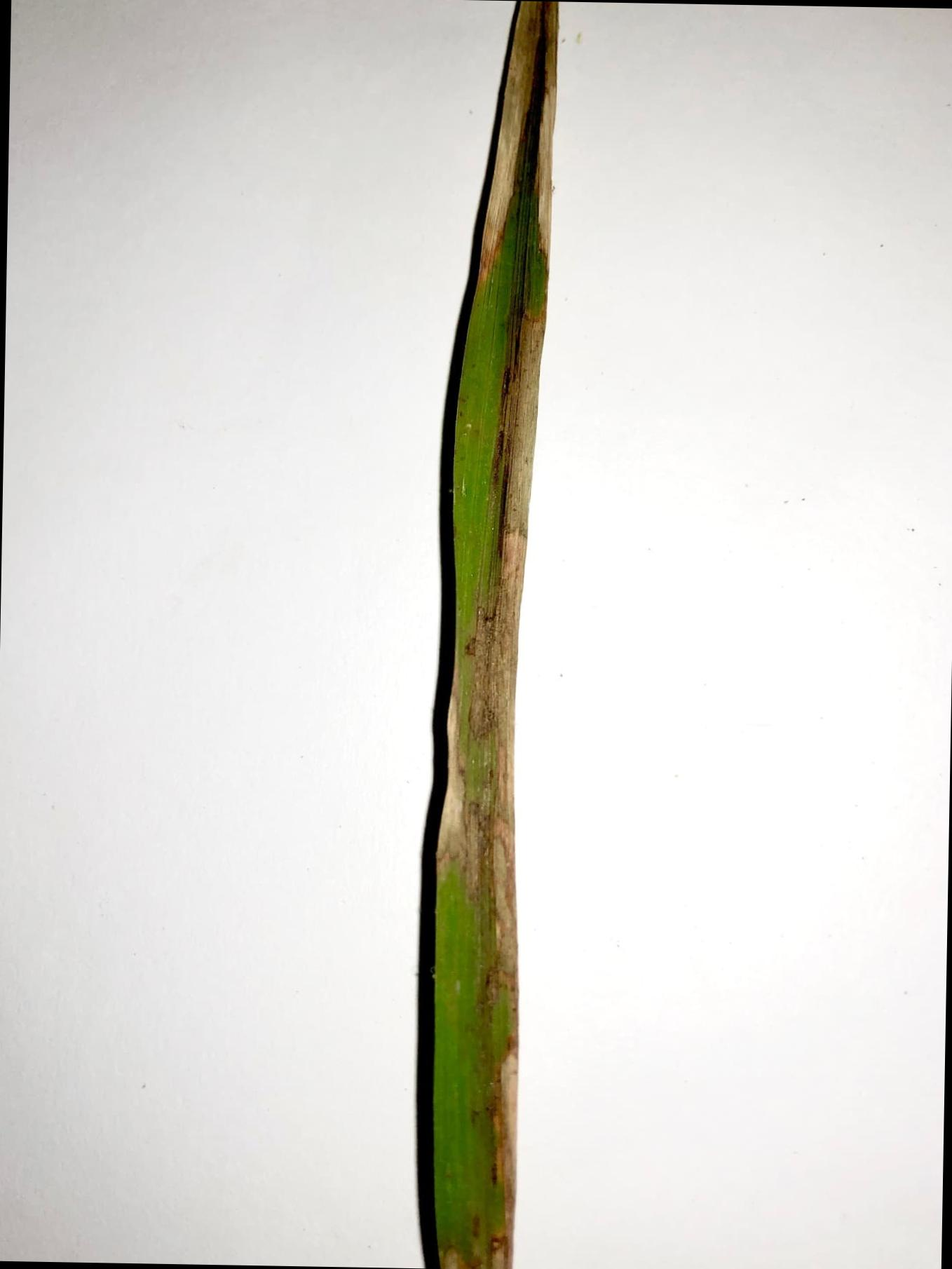Leaf Blight: (437, 300, 543, 1269), (469, 1, 561, 301)
